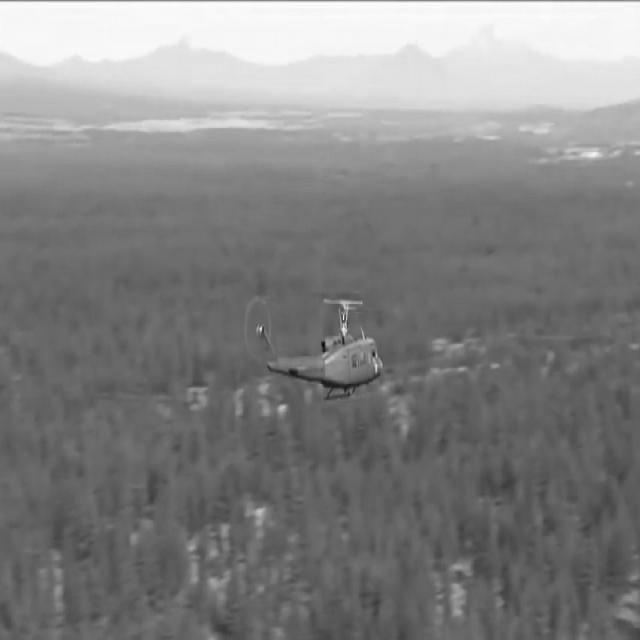helikopter: (245, 281, 405, 419)
